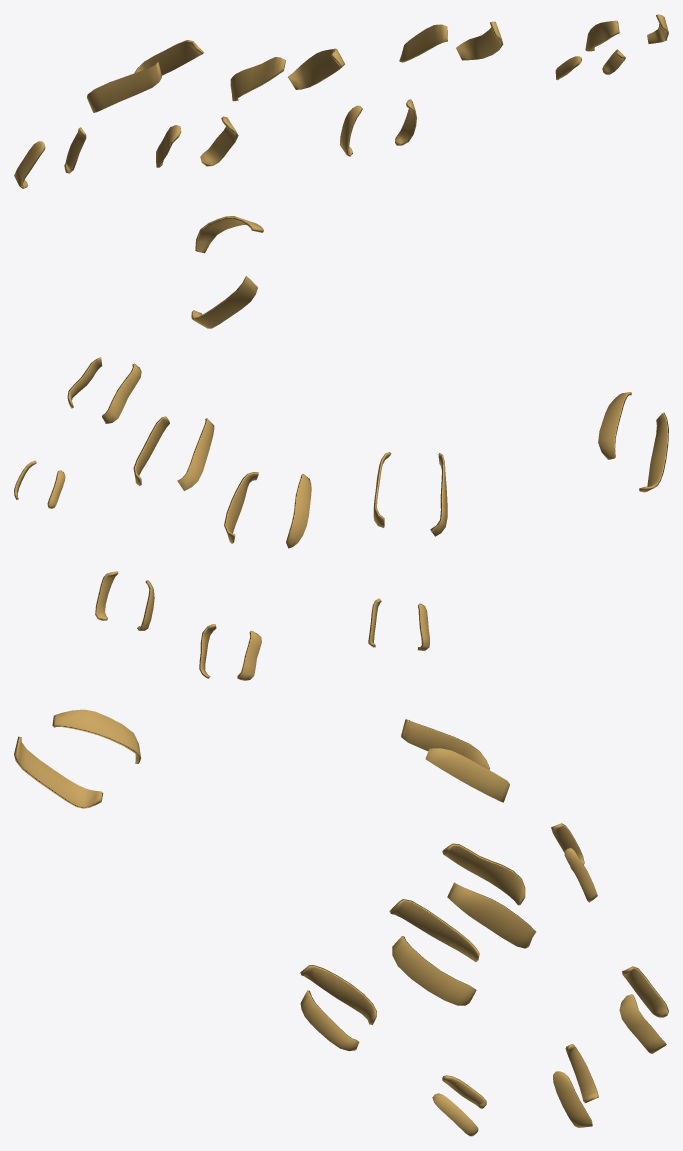
The picture shows the model from 3 angles, top to bottom: view 1: azimuth 30°, elevation 25°; view 2: azimuth 150°, elevation 25°; view 3: azimuth 270°, elevation 25°; orthographic projection. The views are drawn at different scales.
Visible parts, largest first — view 1: 右侧手指间关节侧副韧带; view 2: 右侧手指间关节侧副韧带; view 3: 右侧手指间关节侧副韧带.
Boxes of the visible parts, x1,y1,x2,y2 form: 右侧手指间关节侧副韧带: [14, 14, 668, 328]; 右侧手指间关节侧副韧带: [14, 357, 668, 680]; 右侧手指间关节侧副韧带: [14, 709, 668, 1136].
Size of the model in its own units: 0.1545 by 0.0562 by 0.1353.
